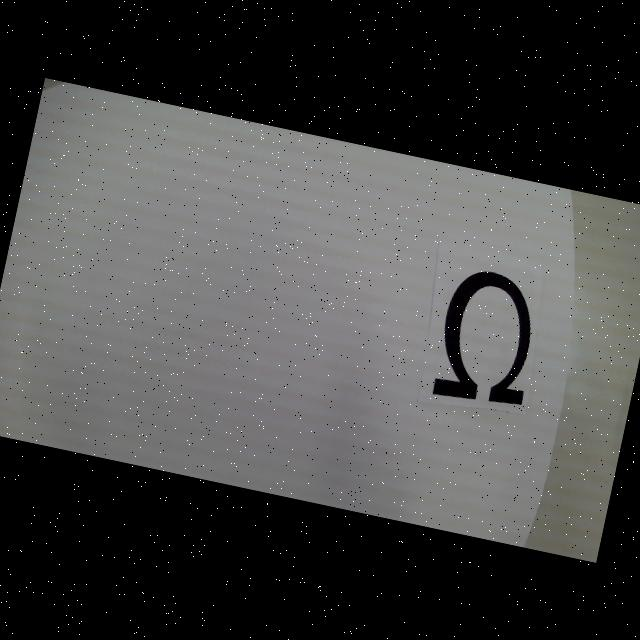OMEGA: (428, 265, 546, 414)
